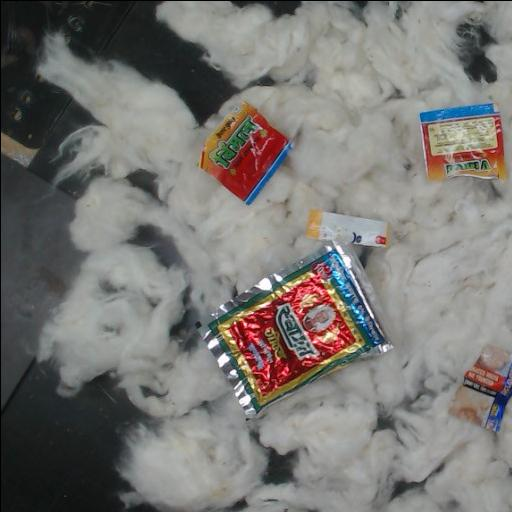conveyor belt: (1, 1, 239, 512), (458, 25, 495, 81), (131, 226, 181, 265), (264, 451, 295, 483), (231, 1, 300, 15), (170, 309, 194, 347), (128, 170, 157, 198), (391, 481, 424, 498), (375, 410, 393, 431)
cotton: (37, 1, 512, 512)
packet: (198, 210, 391, 417), (200, 104, 292, 204), (420, 103, 505, 179), (453, 353, 512, 431)
